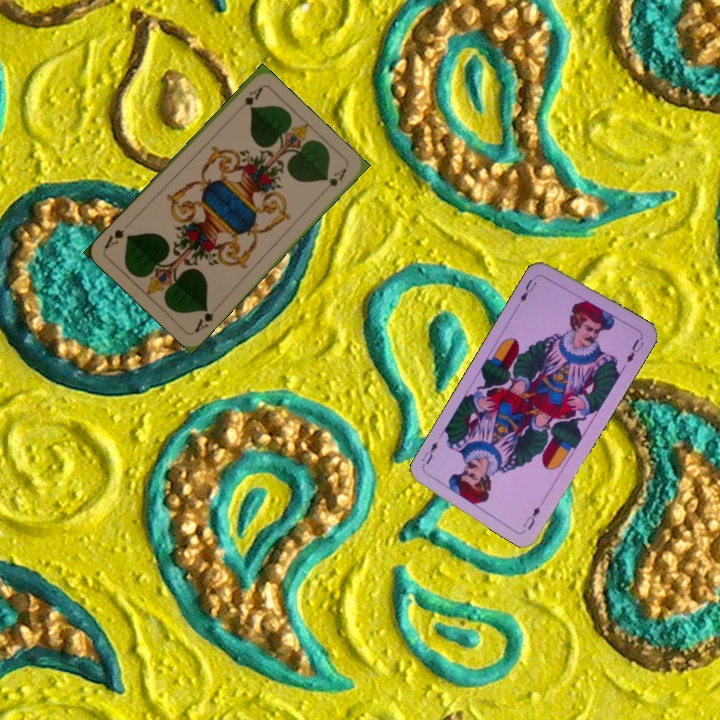EU: (514, 272, 540, 308), (518, 503, 543, 532)
GA: (232, 83, 265, 116), (190, 304, 216, 335)
